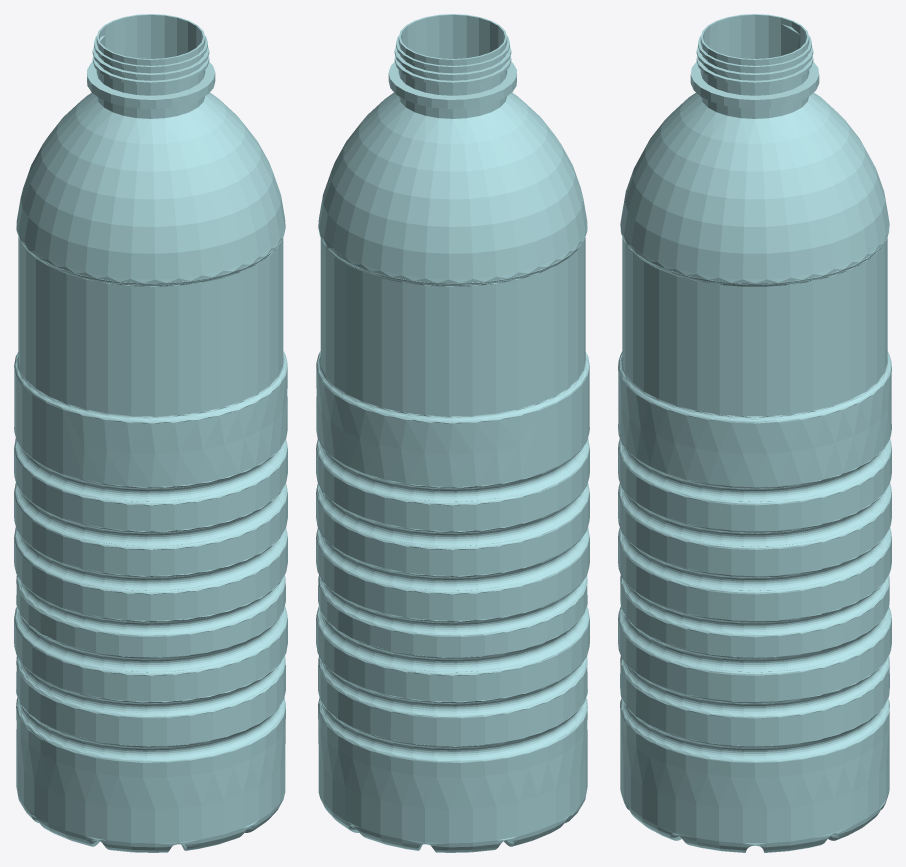
Rendered from waterBottle.dae.
The picture shows the model from 3 angles, left to right: view 1: azimuth 30°, elevation 25°; view 2: azimuth 150°, elevation 25°; view 3: azimuth 270°, elevation 25°; orthographic projection.
Parts seen in each view (by area): view 1: waterbottle; view 2: waterbottle; view 3: waterbottle.
Boxes of the visible parts, <box> form: waterbottle: <box>14,14,287,852</box>; waterbottle: <box>316,14,589,852</box>; waterbottle: <box>618,14,891,852</box>.
Bounding box in the file's own units: 0.068 × 0.068 × 0.21.
